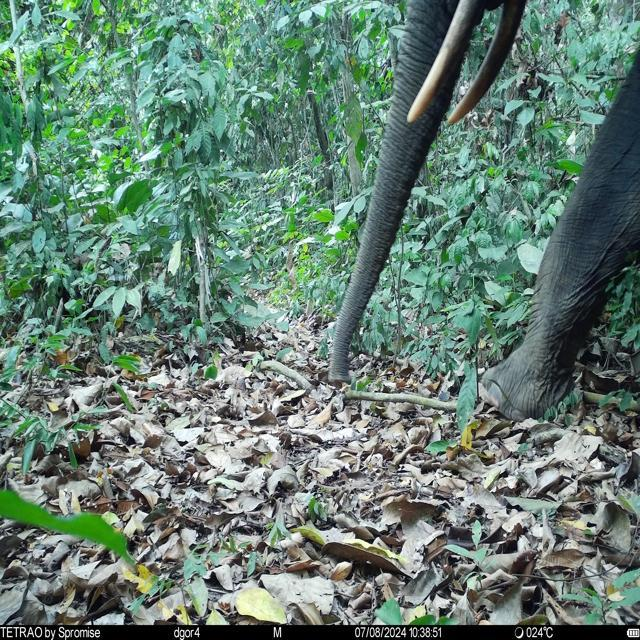elephant: (328, 0, 640, 418)
tusk: (447, 1, 529, 127), (405, 0, 483, 121)
